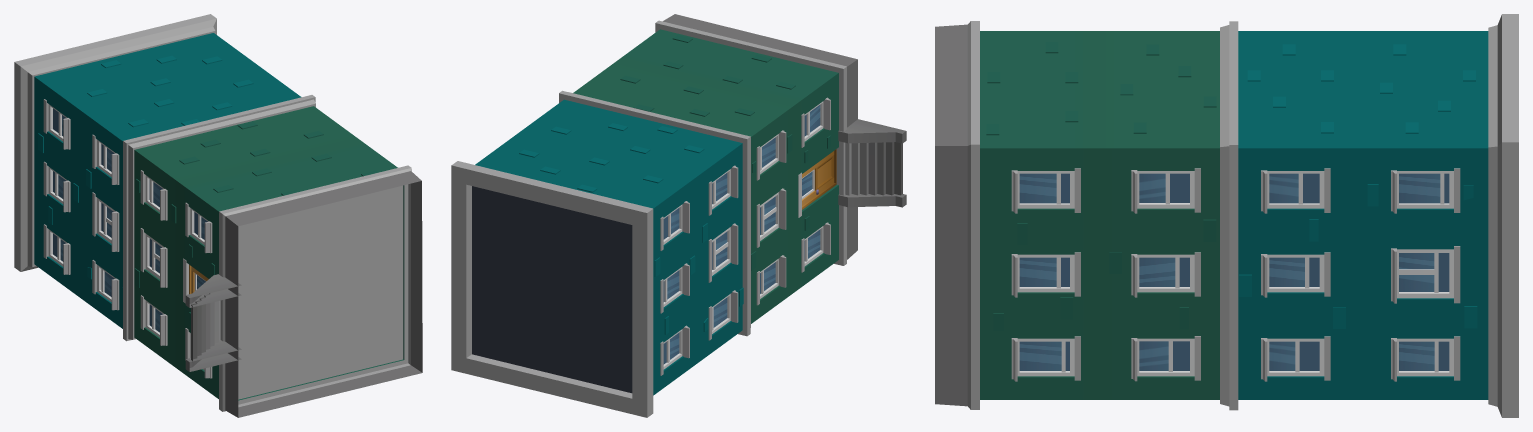
File: Building_2_8_H.glb
3 views of the same model, side by side, from view 1: azimuth 30°, elevation 25°; view 2: azimuth 150°, elevation 25°; view 3: azimuth 270°, elevation 25° (orthographic). The views are drawn at different scales.
Parts seen in each view (by area): view 1: Building_2_8_H; view 2: Building_2_8_H; view 3: Building_2_8_H.
Part boxes in pixels (box(x1,y1,x2,y2)): Building_2_8_H: box(14, 14, 422, 417); Building_2_8_H: box(451, 14, 906, 417); Building_2_8_H: box(935, 14, 1518, 417).
Bounding box in the file's own units: 7.54 × 6.2 × 11.91.
3 materials, 3 textured.
